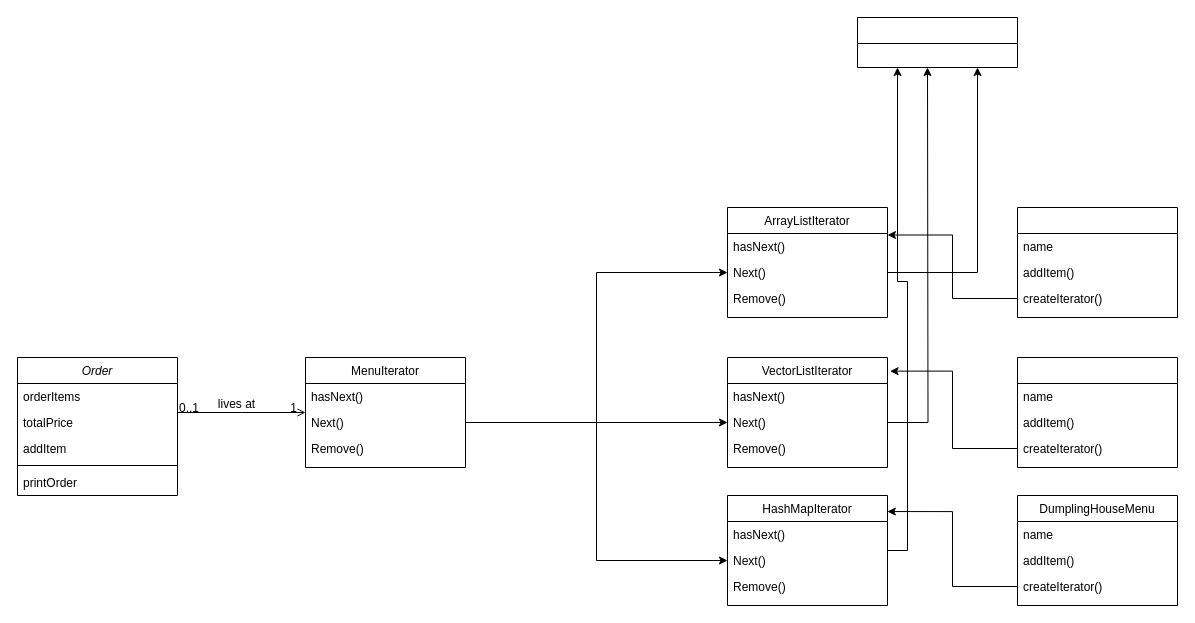
The diagram is 1195 pixels wide and 623 high, and some of its shapes have lost their labels. The box of each missing label's shape, as (x1, y1, x2, y2) in pixels:
CoffeShopMenu: (1016, 356, 1178, 468)
PizzeriaMenu: (1016, 206, 1178, 318)
PrintMenuAndOrder: (856, 16, 1018, 68)
